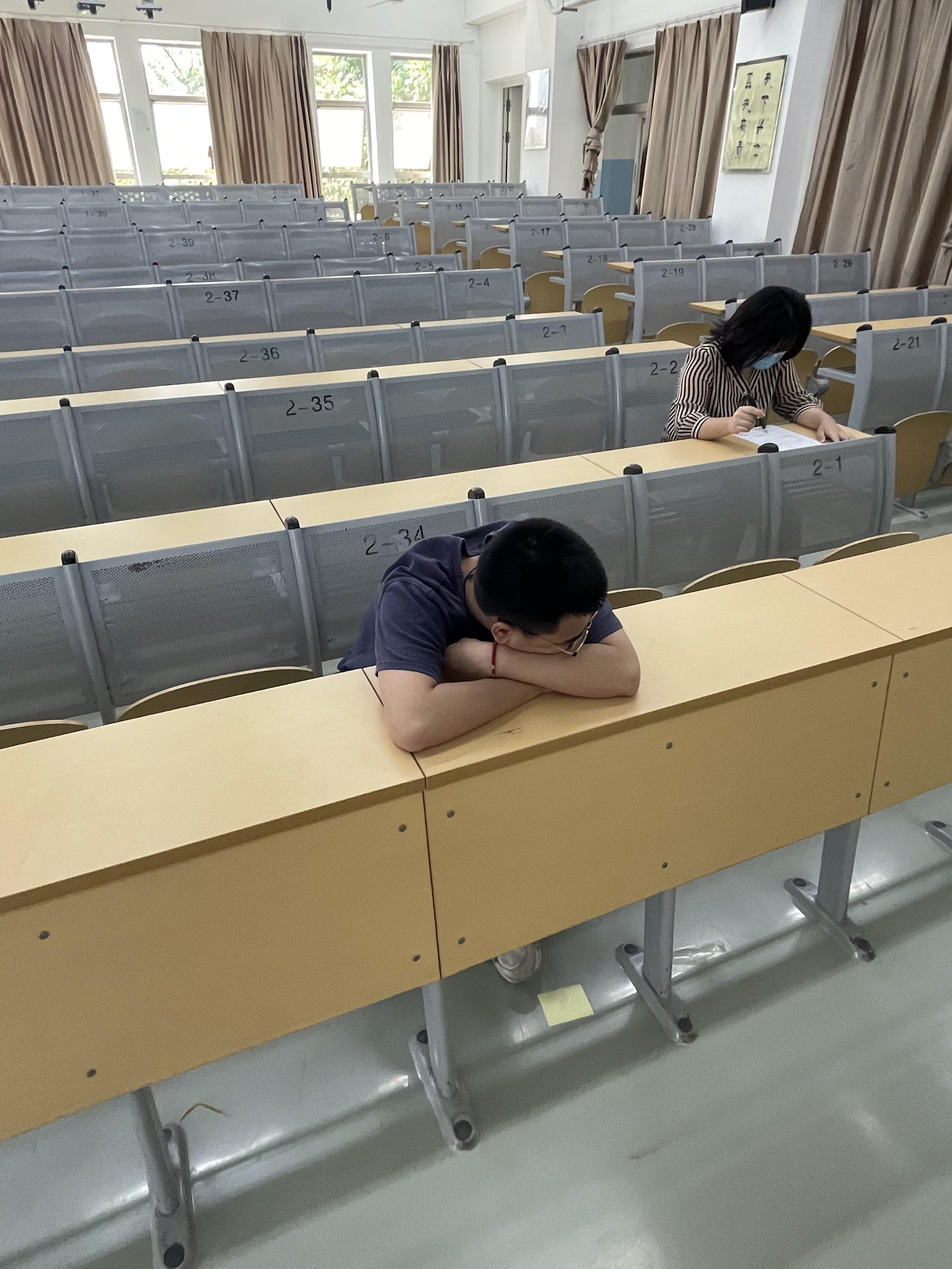sleep: (367, 517, 638, 745)
study: (671, 289, 848, 447)
